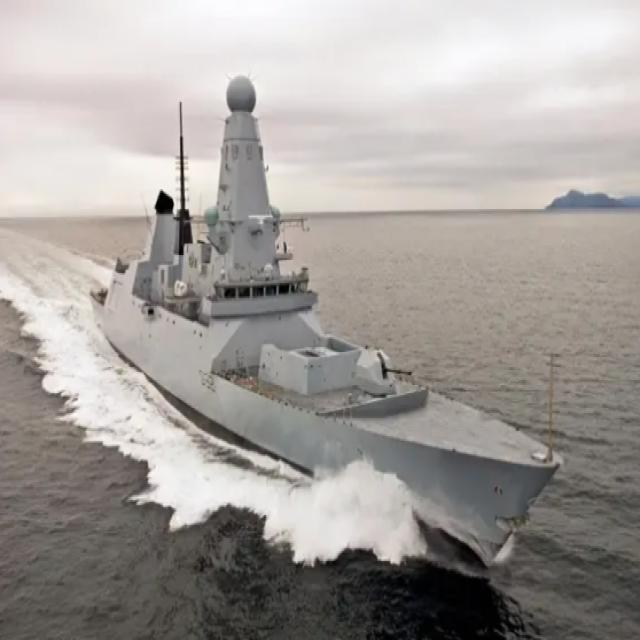navalvessels: (89, 77, 568, 566)
